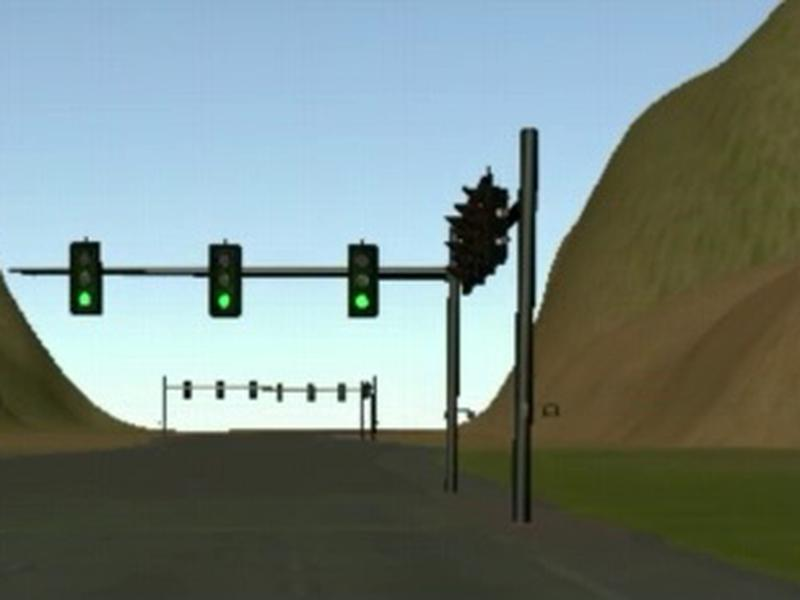Green: (69, 241, 102, 315), (208, 244, 241, 317), (348, 244, 379, 318)
